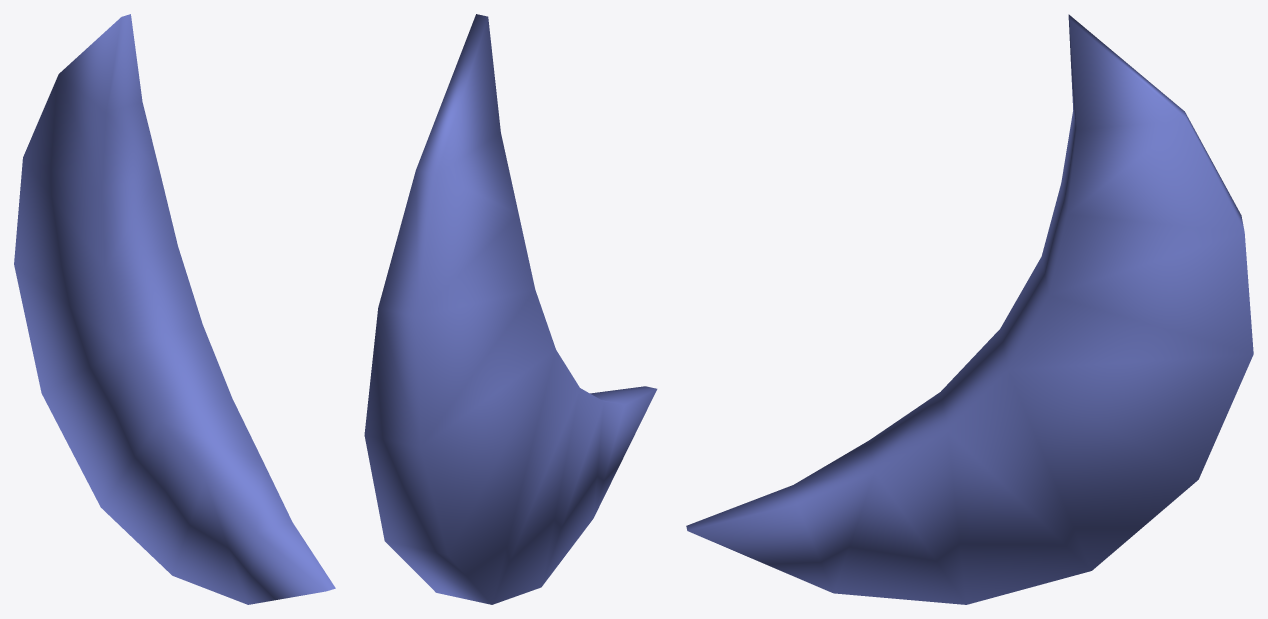
File: moon-2.dae
3 views of the same model, side by side, from view 1: azimuth 30°, elevation 25°; view 2: azimuth 150°, elevation 25°; view 3: azimuth 270°, elevation 25° (orthographic). The views are drawn at different scales.
Visible parts, largest first — view 1: Cube; view 2: Cube; view 3: Cube.
Part boxes in pixels (x1,y1,x2,y2): Cube: (14,14,335,604); Cube: (364,14,657,604); Cube: (686,14,1253,604).
Bounding box in the file's own units: 9.08 × 48.85 × 54.42.
